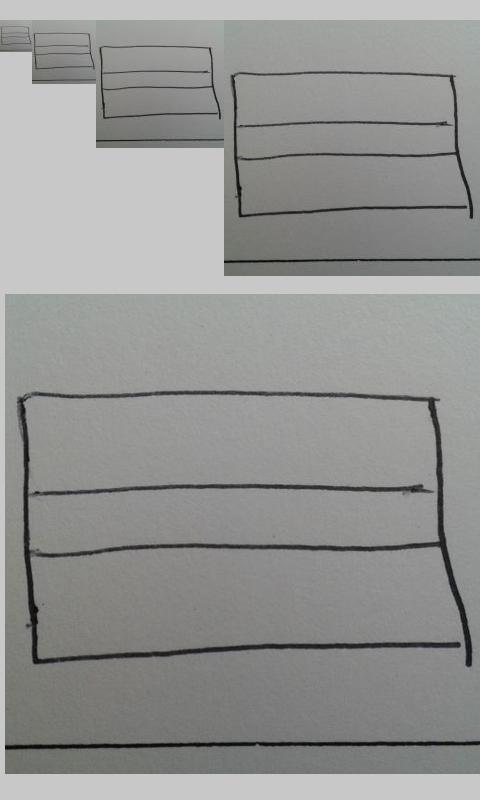list_view: (19, 390, 472, 667), (230, 70, 474, 218), (99, 44, 221, 119), (33, 31, 95, 70), (1, 25, 32, 46)
